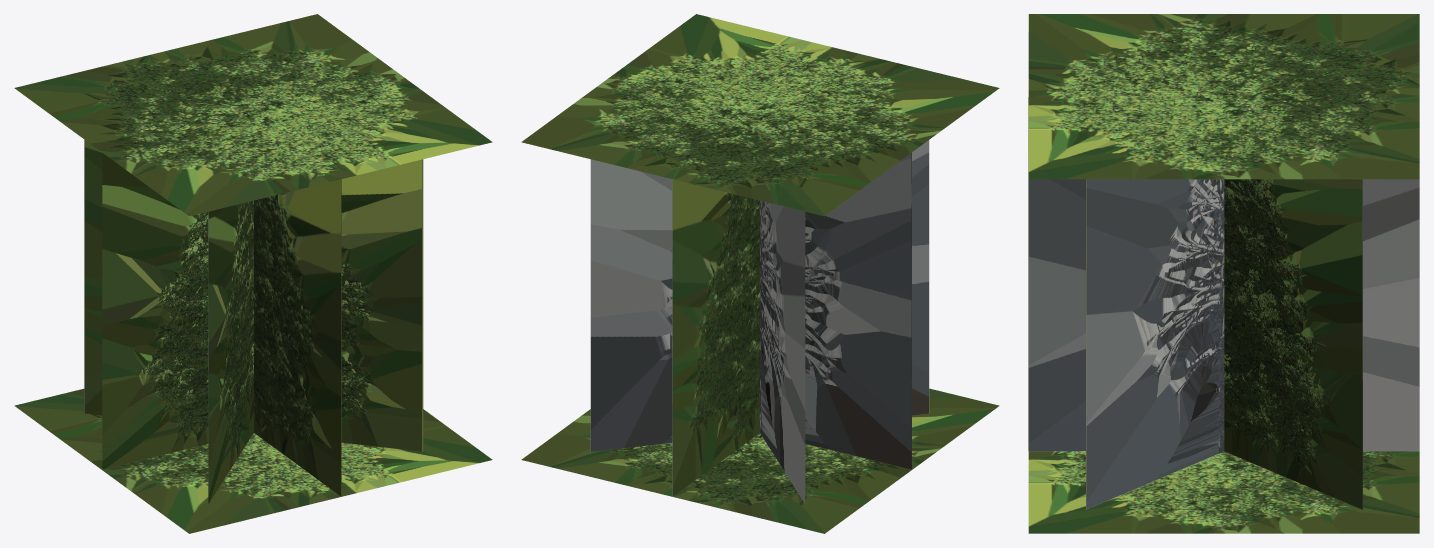
Rendered from tree_plane.glb.
3 views of the same model, side by side, from view 1: azimuth 30°, elevation 25°; view 2: azimuth 150°, elevation 25°; view 3: azimuth 270°, elevation 25° (orthographic). The views are drawn at different scales.
Visible parts, largest first — view 1: Leaves_plane, top_plane, bottom_plane, Branch_plane; view 2: Branch_plane, top_plane, Leaves_plane, bottom_plane; view 3: Branch_plane, top_plane, Leaves_plane, bottom_plane.
Boxes of the visible parts, x1=… form: Leaves_plane: x1=84, y1=140, x2=423, y2=503; top_plane: x1=14, y1=14, x2=492, y2=216; bottom_plane: x1=14, y1=388, x2=492, y2=533; Branch_plane: x1=84, y1=140, x2=208, y2=503; Branch_plane: x1=590, y1=140, x2=929, y2=503; top_plane: x1=521, y1=14, x2=999, y2=216; Leaves_plane: x1=672, y1=153, x2=911, y2=496; bottom_plane: x1=521, y1=388, x2=999, y2=533; Branch_plane: x1=1028, y1=179, x2=1419, y2=509; top_plane: x1=1028, y1=14, x2=1419, y2=179; Leaves_plane: x1=1028, y1=97, x2=1362, y2=509; bottom_plane: x1=1028, y1=451, x2=1419, y2=533.
Size of the model in its own units: 10.02 by 10 by 10.01.
Materials: 4 (4 with a texture image).
